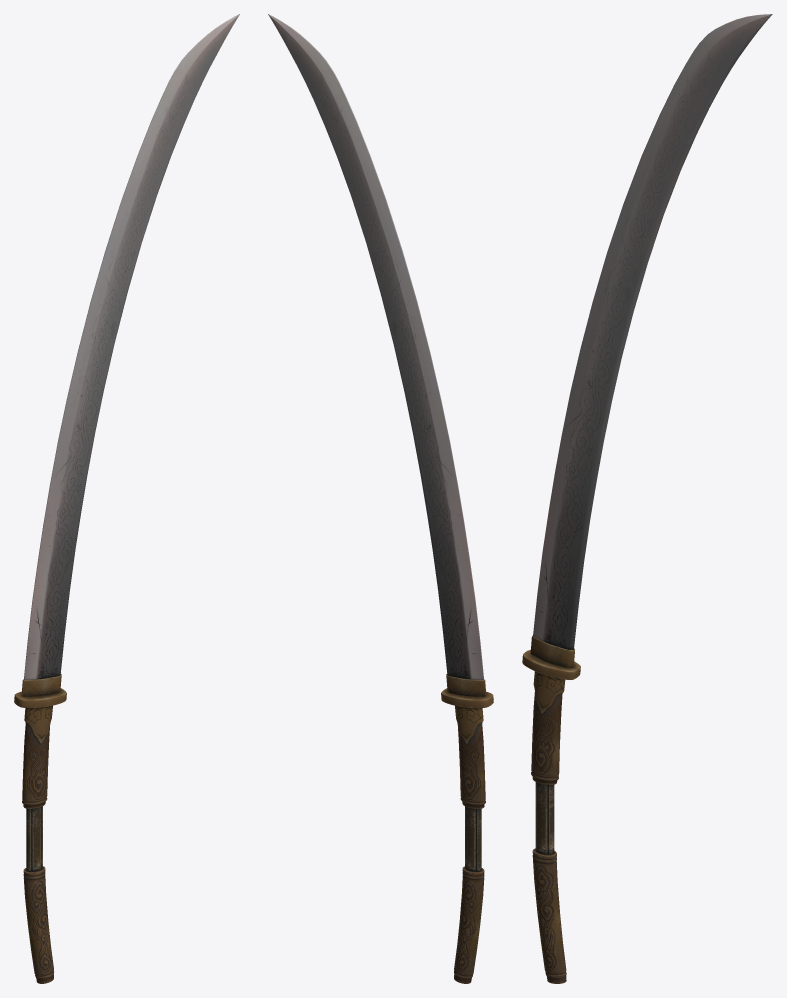
Rendered from swo017.obj.
The picture shows the model from 3 angles, left to right: view 1: azimuth 30°, elevation 25°; view 2: azimuth 150°, elevation 25°; view 3: azimuth 330°, elevation 25°; orthographic projection. The views are drawn at different scales.
Visible parts, largest first — view 1: swo017_000_LOD_1, swo017_001_LOD_1; view 2: swo017_000_LOD_1, swo017_001_LOD_1; view 3: swo017_000_LOD_1, swo017_001_LOD_1.
Boxes of the visible parts, x1=… form: swo017_000_LOD_1: x1=14, y1=14, x2=239, y2=808; swo017_001_LOD_1: x1=23, y1=806, x2=53, y2=983; swo017_000_LOD_1: x1=268, y1=14, x2=493, y2=808; swo017_001_LOD_1: x1=454, y1=806, x2=484, y2=983; swo017_000_LOD_1: x1=522, y1=14, x2=772, y2=784; swo017_001_LOD_1: x1=532, y1=782, x2=566, y2=983.
Bounding box in the file's own units: 71.71 × 282 × 7.94.
